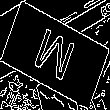M_SW: (30, 22, 80, 88)
